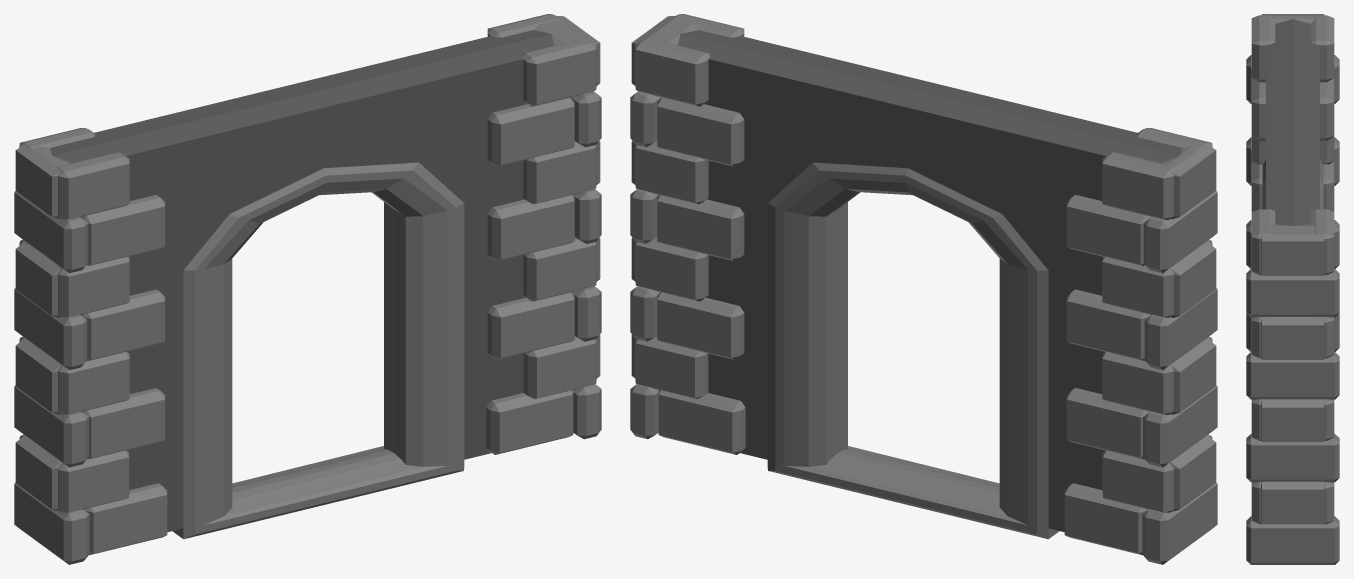
File: DungeonWallGate.fbx
3 views of the same model, side by side, from view 1: azimuth 30°, elevation 25°; view 2: azimuth 150°, elevation 25°; view 3: azimuth 270°, elevation 25° (orthographic). The views are drawn at different scales.
Visible parts, largest first — view 1: DungeonWallGate; view 2: DungeonWallGate; view 3: DungeonWallGate.
Boxes of the visible parts, left/top/right/bottom form: DungeonWallGate: left=14, top=14, right=601, bottom=564; DungeonWallGate: left=630, top=14, right=1217, bottom=564; DungeonWallGate: left=1246, top=14, right=1339, bottom=564.
Size of the model in its own units: 520 by 363 by 90.43.
Materials: 1 (1 with a texture image).
